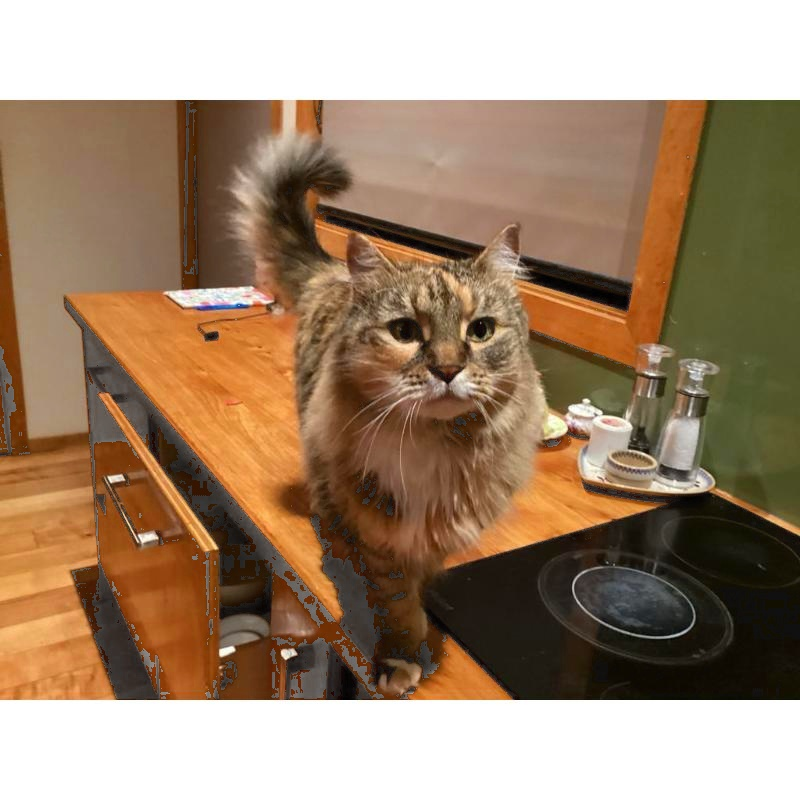yellow: (226, 131, 550, 700)
